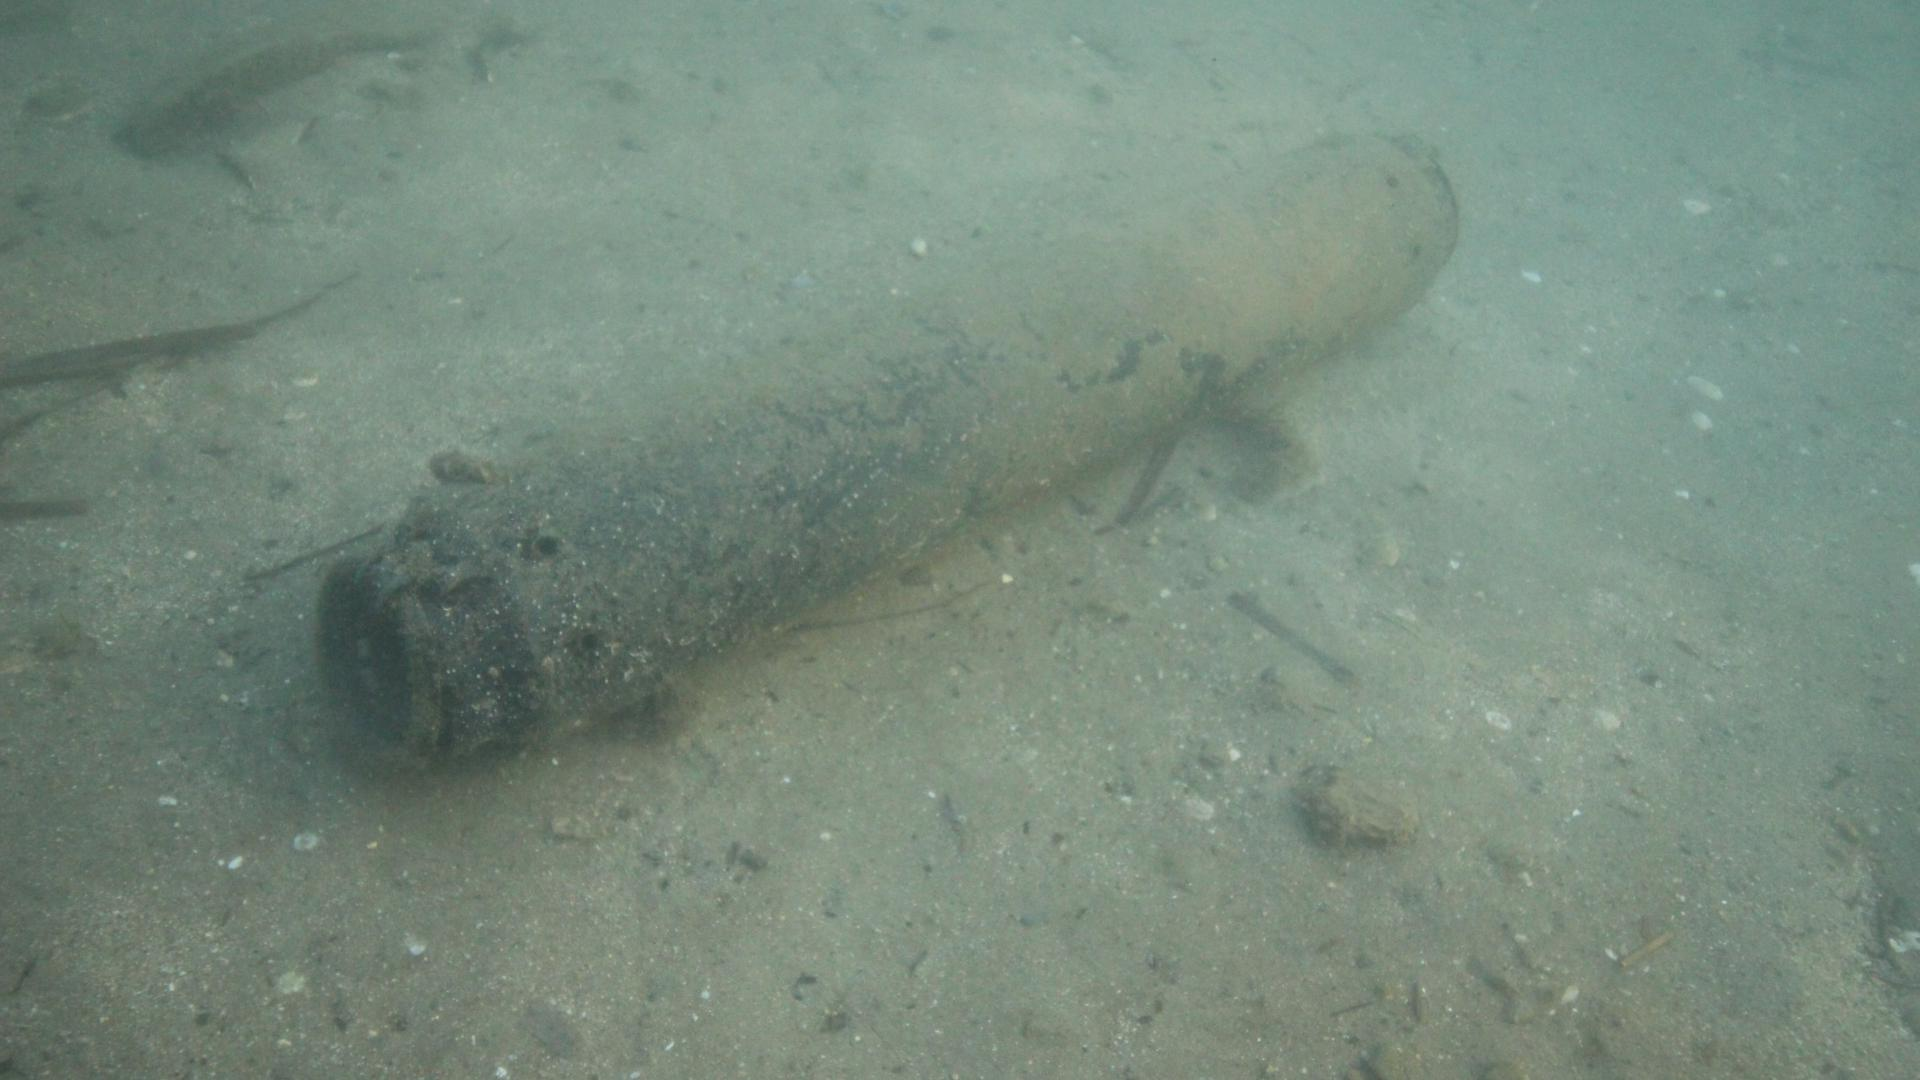eel fish trap: (315, 125, 1457, 764)
